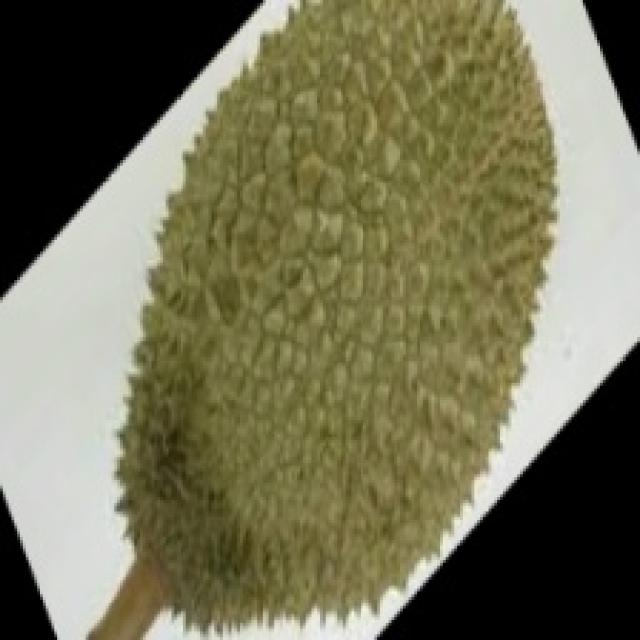d2: (71, 0, 560, 637)
